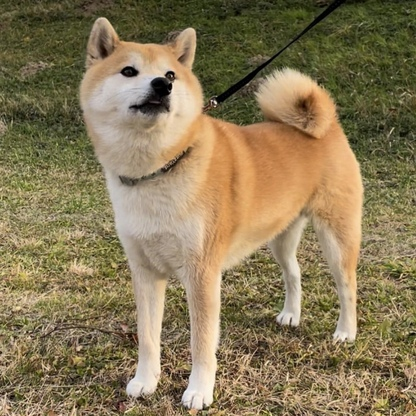shiba: (69, 12, 372, 412)
